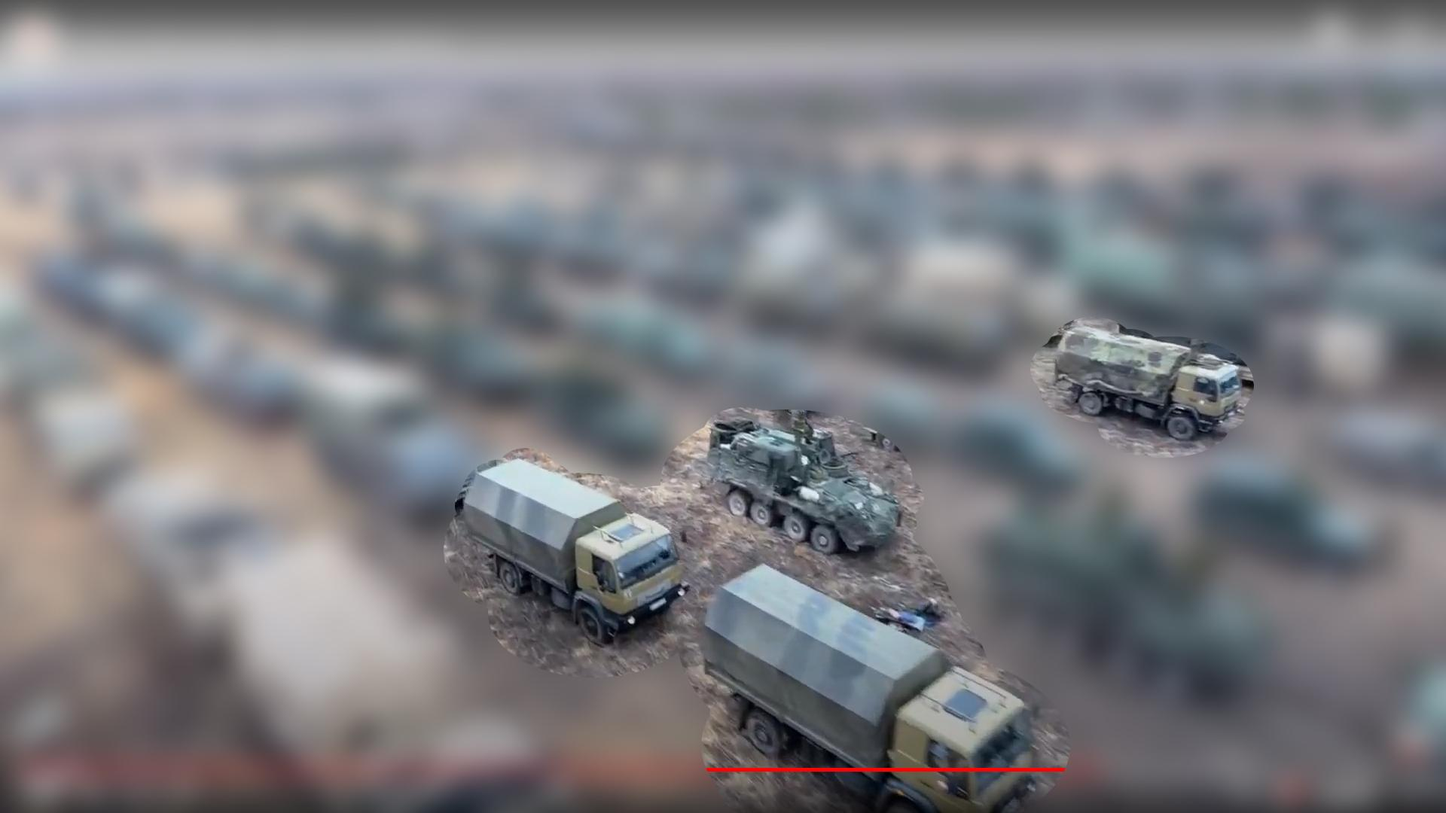armored_car: (706, 414, 907, 555)
truck: (702, 569, 1043, 813), (458, 460, 686, 652), (1054, 323, 1249, 444)
